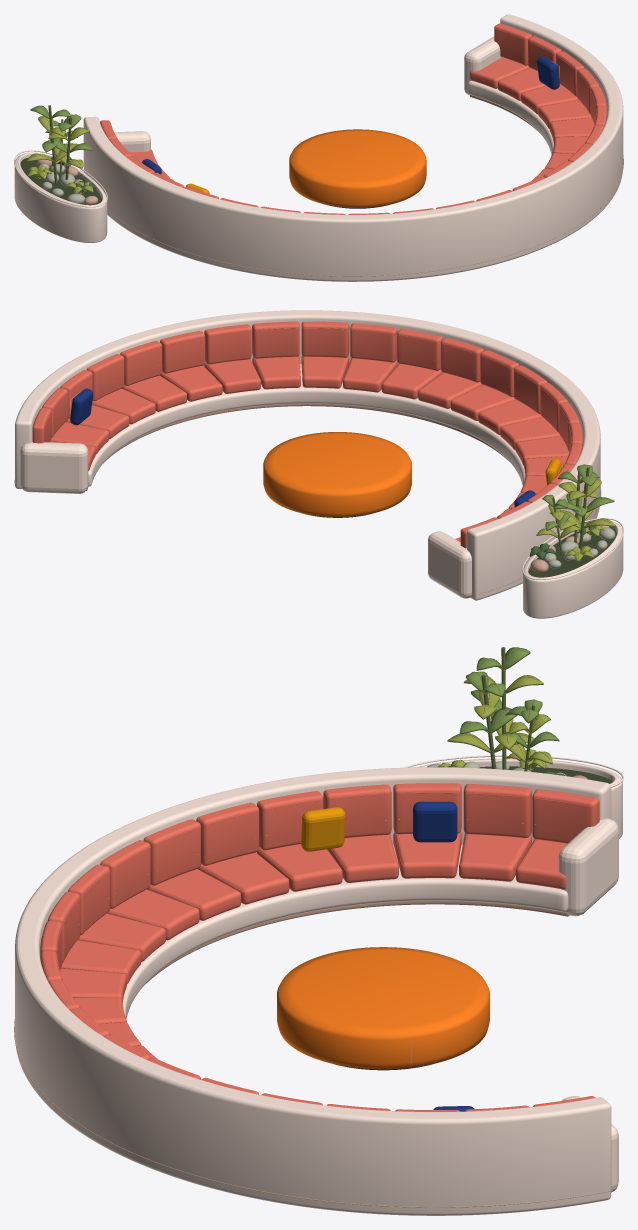
Rendered from 02_grand_curve_lounge.glb.
The picture shows the model from 3 angles, top to bottom: view 1: azimuth 30°, elevation 25°; view 2: azimuth 150°, elevation 25°; view 3: azimuth 270°, elevation 25°; orthographic projection. The views are drawn at different scales.
Parts seen in each view (by area): view 1: Sofas / Ceramic shell / Warm Ivory / Ceramic, Ottomans / Upholstery / Vivid Orange / Soft ottoman, Sofas / Back cushions / Coral / Upholstery, Sofas / Seat cushions / Coral / Upholstery, Planting / Ceramic planters / Warm Ivory / Ceramic.001, Planting / Leaves / Natural lime foliage.001, Planting / Leaves / Natural sage foliage.001, Sofas / Ceramic shell / Soft Taupe / Recess and stone, Planting / Soil / Natural dark soil.001, Sofas / Accent pillows / Royal Blue / Pillow, Planting / Stems / Natural olive stems.001, Planting / River stones / Natural pale river pebble.001; view 2: Sofas / Ceramic shell / Warm Ivory / Ceramic, Sofas / Back cushions / Coral / Upholstery, Sofas / Seat cushions / Coral / Upholstery, Ottomans / Upholstery / Vivid Orange / Soft ottoman, Planting / Ceramic planters / Warm Ivory / Ceramic.001, Planting / Leaves / Natural lime foliage.001, Sofas / Ceramic shell / Soft Taupe / Recess and stone, Planting / Leaves / Natural sage foliage.001, Planting / Soil / Natural dark soil.001, Planting / River stones / Natural pale river pebble.001, Planting / Stems / Natural olive stems.001, Sofas / Accent pillows / Royal Blue / Pillow (+2 smaller); view 3: Sofas / Ceramic shell / Warm Ivory / Ceramic, Sofas / Back cushions / Coral / Upholstery, Sofas / Seat cushions / Coral / Upholstery, Ottomans / Upholstery / Vivid Orange / Soft ottoman, Planting / Leaves / Natural lime foliage.001, Sofas / Ceramic shell / Soft Taupe / Recess and stone, Planting / Leaves / Natural sage foliage.001, Sofas / Accent pillows / Royal Blue / Pillow, Planting / Ceramic planters / Warm Ivory / Ceramic.001, Sofas / Accent pillows / Mustard Yellow / Pillow, Planting / Stems / Natural olive stems.001.
Boxes of the visible parts, <box> form: Sofas / Ceramic shell / Warm Ivory / Ceramic: <box>83,14,623,281</box>; Ottomans / Upholstery / Vivid Orange / Soft ottoman: <box>289,129,426,207</box>; Sofas / Back cushions / Coral / Upholstery: <box>100,23,606,214</box>; Sofas / Seat cushions / Coral / Upholstery: <box>129,57,594,180</box>; Planting / Ceramic planters / Warm Ivory / Ceramic.001: <box>14,150,107,242</box>; Planting / Leaves / Natural lime foliage.001: <box>27,116,93,193</box>; Planting / Leaves / Natural sage foliage.001: <box>30,105,92,153</box>; Sofas / Ceramic shell / Soft Taupe / Recess and stone: <box>107,95,623,276</box>; Planting / Soil / Natural dark soil.001: <box>20,157,101,204</box>; Sofas / Accent pillows / Royal Blue / Pillow: <box>142,56,559,174</box>; Planting / Stems / Natural olive stems.001: <box>30,105,94,189</box>; Planting / River stones / Natural pale river pebble.001: <box>39,163,85,204</box>; Sofas / Ceramic shell / Warm Ivory / Ceramic: <box>15,310,600,600</box>; Sofas / Back cushions / Coral / Upholstery: <box>32,321,582,548</box>; Sofas / Seat cushions / Coral / Upholstery: <box>50,356,569,542</box>; Ottomans / Upholstery / Vivid Orange / Soft ottoman: <box>263,432,411,517</box>; Planting / Ceramic planters / Warm Ivory / Ceramic.001: <box>522,518,623,618</box>; Planting / Leaves / Natural lime foliage.001: <box>536,479,614,561</box>; Sofas / Ceramic shell / Soft Taupe / Recess and stone: <box>14,403,601,597</box>; Planting / Leaves / Natural sage foliage.001: <box>542,464,614,530</box>; Planting / Soil / Natural dark soil.001: <box>528,526,616,577</box>; Planting / River stones / Natural pale river pebble.001: <box>543,527,615,568</box>; Planting / Stems / Natural olive stems.001: <box>531,464,610,557</box>; Sofas / Accent pillows / Royal Blue / Pillow: <box>70,388,535,507</box>; Sofas / Ceramic shell / Warm Ivory / Ceramic: <box>15,767,618,1215</box>; Sofas / Back cushions / Coral / Upholstery: <box>40,783,599,1111</box>; Sofas / Seat cushions / Coral / Upholstery: <box>60,832,567,1059</box>; Ottomans / Upholstery / Vivid Orange / Soft ottoman: <box>277,947,489,1069</box>; Planting / Leaves / Natural lime foliage.001: <box>433,675,552,770</box>; Sofas / Ceramic shell / Soft Taupe / Recess and stone: <box>14,900,612,1207</box>; Planting / Leaves / Natural sage foliage.001: <box>460,647,559,748</box>; Sofas / Accent pillows / Royal Blue / Pillow: <box>413,801,474,1111</box>; Planting / Ceramic planters / Warm Ivory / Ceramic.001: <box>404,755,623,838</box>; Sofas / Accent pillows / Mustard Yellow / Pillow: <box>301,807,345,851</box>; Planting / Stems / Natural olive stems.001: <box>436,647,565,775</box>.
Bounding box in the file's own units: 9.35 × 1.91 × 5.89.
